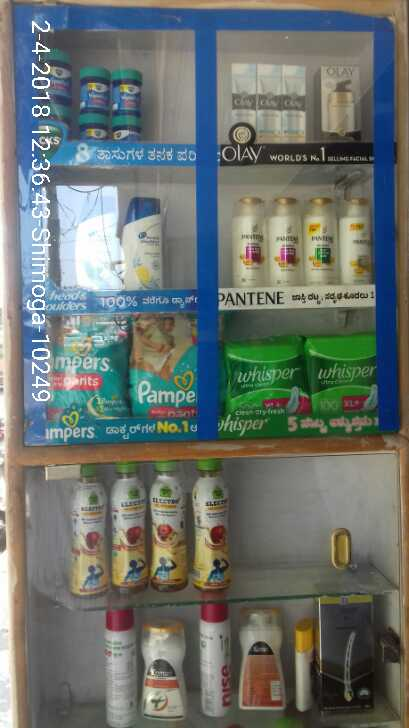vicks: (43, 41, 145, 141)
